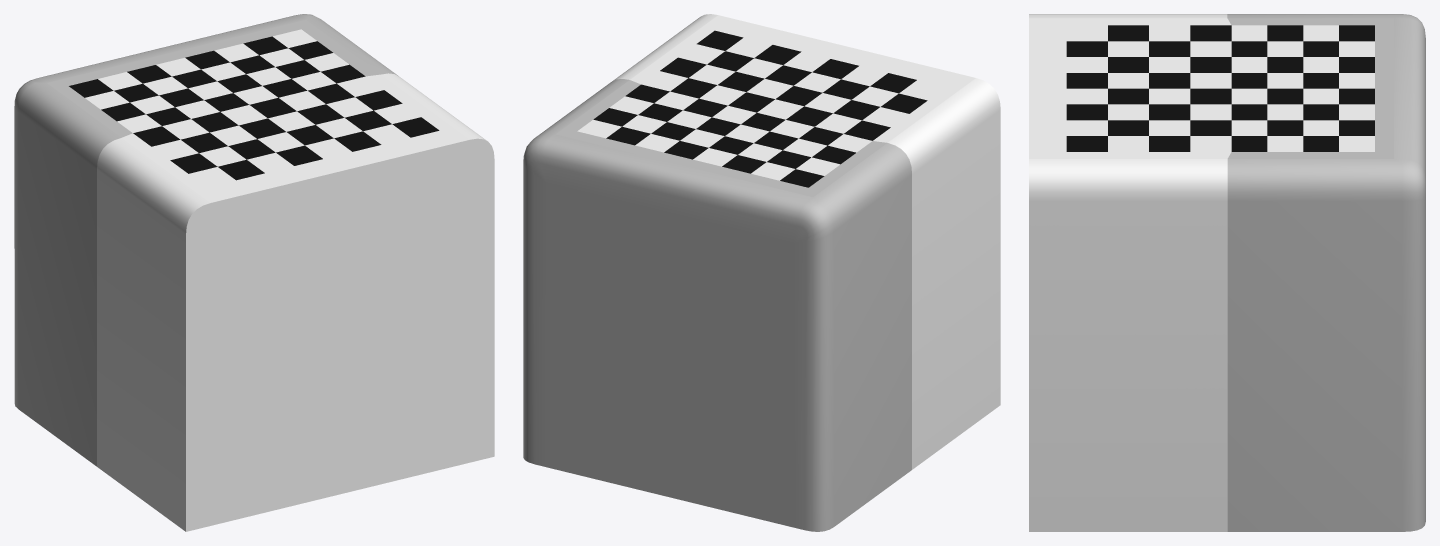
File: Finish.FBX
3 views of the same model, side by side, from view 1: azimuth 30°, elevation 25°; view 2: azimuth 150°, elevation 25°; view 3: azimuth 270°, elevation 25° (orthographic). The views are drawn at different scales.
Parts seen in each view (by area): view 1: Finish; view 2: Finish; view 3: Finish.
Boxes of the visible parts, x1,y1,x2,y2 form: Finish: [14, 14, 494, 531]; Finish: [523, 14, 1000, 531]; Finish: [1029, 14, 1425, 531].
Size of the model in its own units: 197 by 197 by 197.
2 materials, 2 textured.
